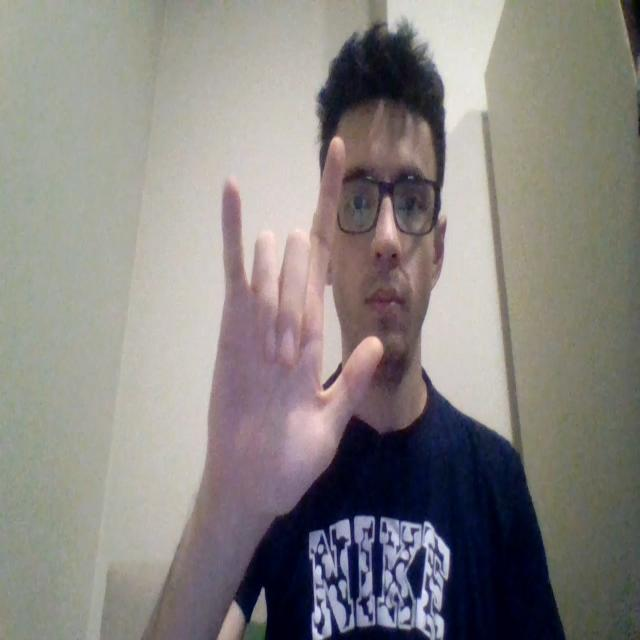iloveyou: (202, 174, 384, 532)
